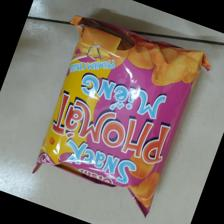Oishi_phomat: (29, 13, 215, 224)
